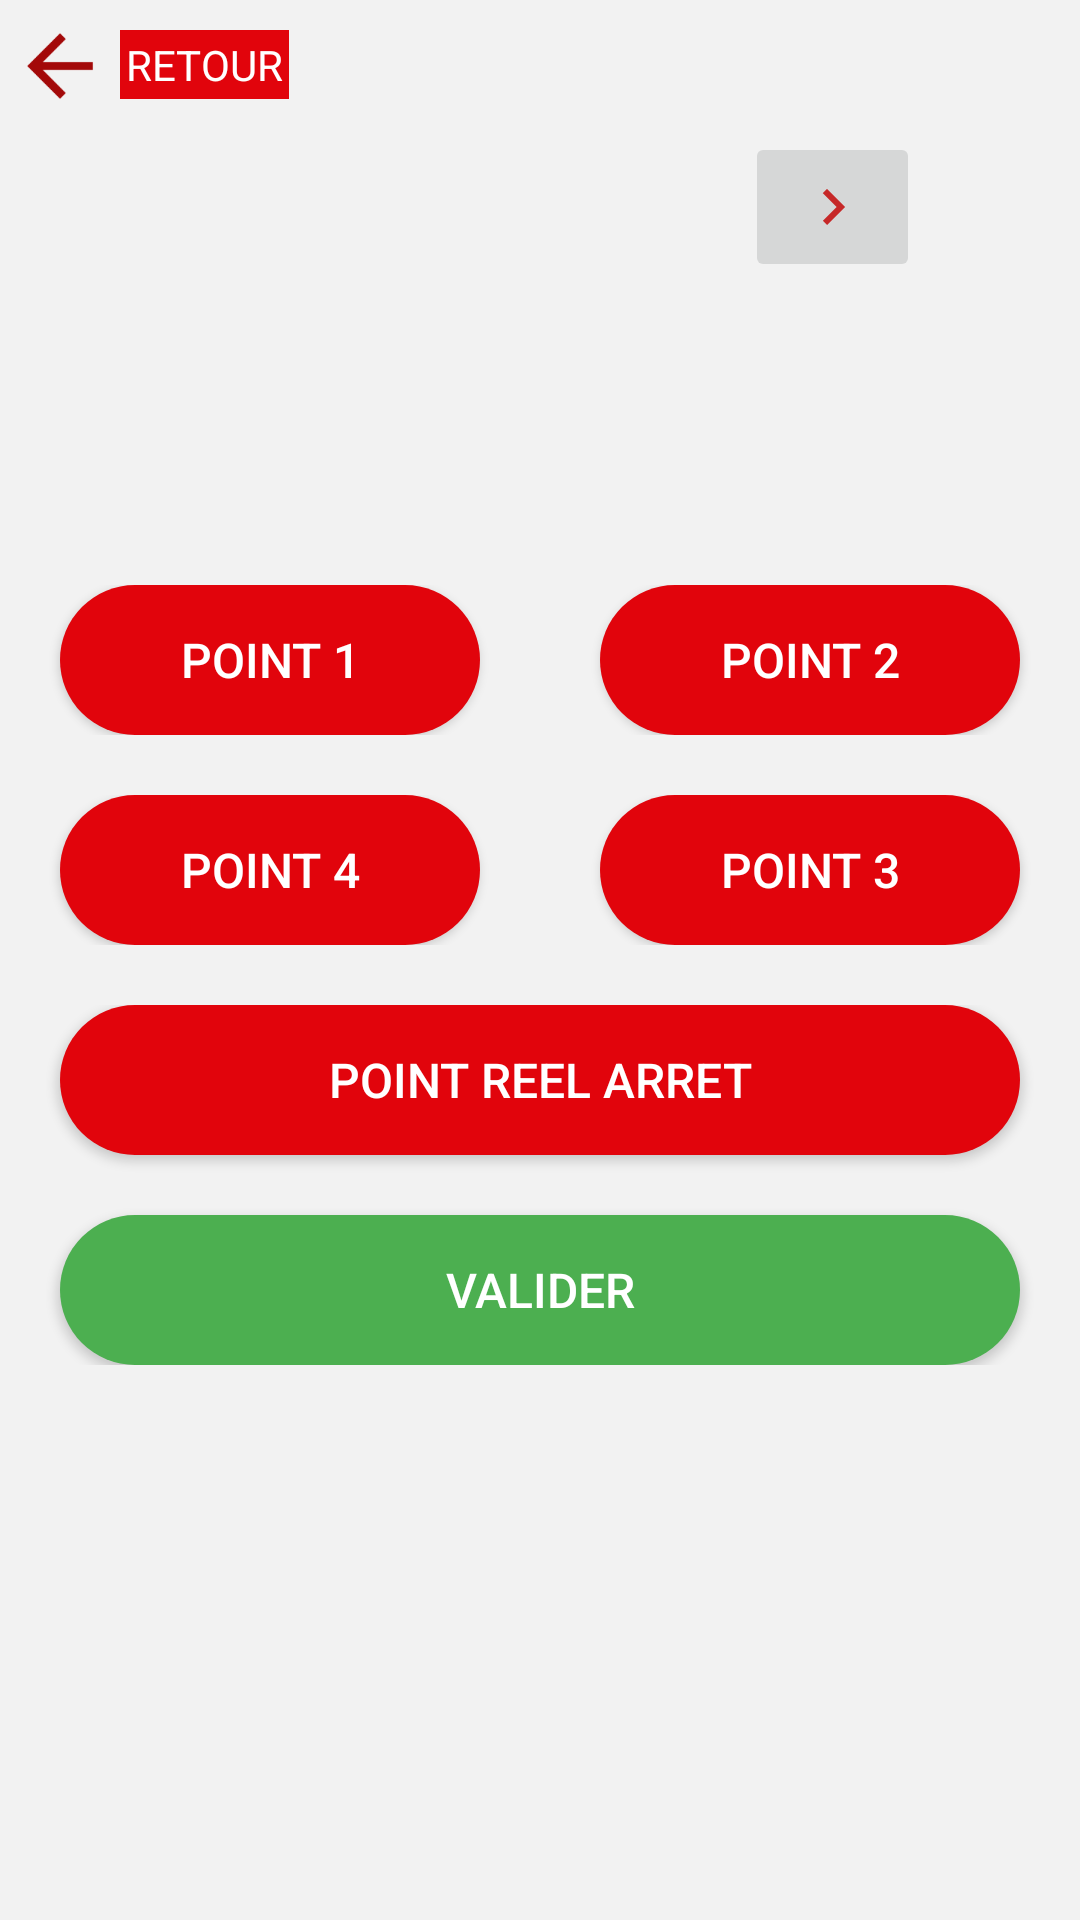

Screen size 1080 × 1920. Icon name, then its box in pixels as {"x1": x1, "y1": y1, "x2": x2, "y2": y2}:
arrow back: {"x1": 27, "y1": 33, "x2": 93, "y2": 99}
keyboard arrow right: {"x1": 757, "y1": 150, "x2": 908, "y2": 264}
